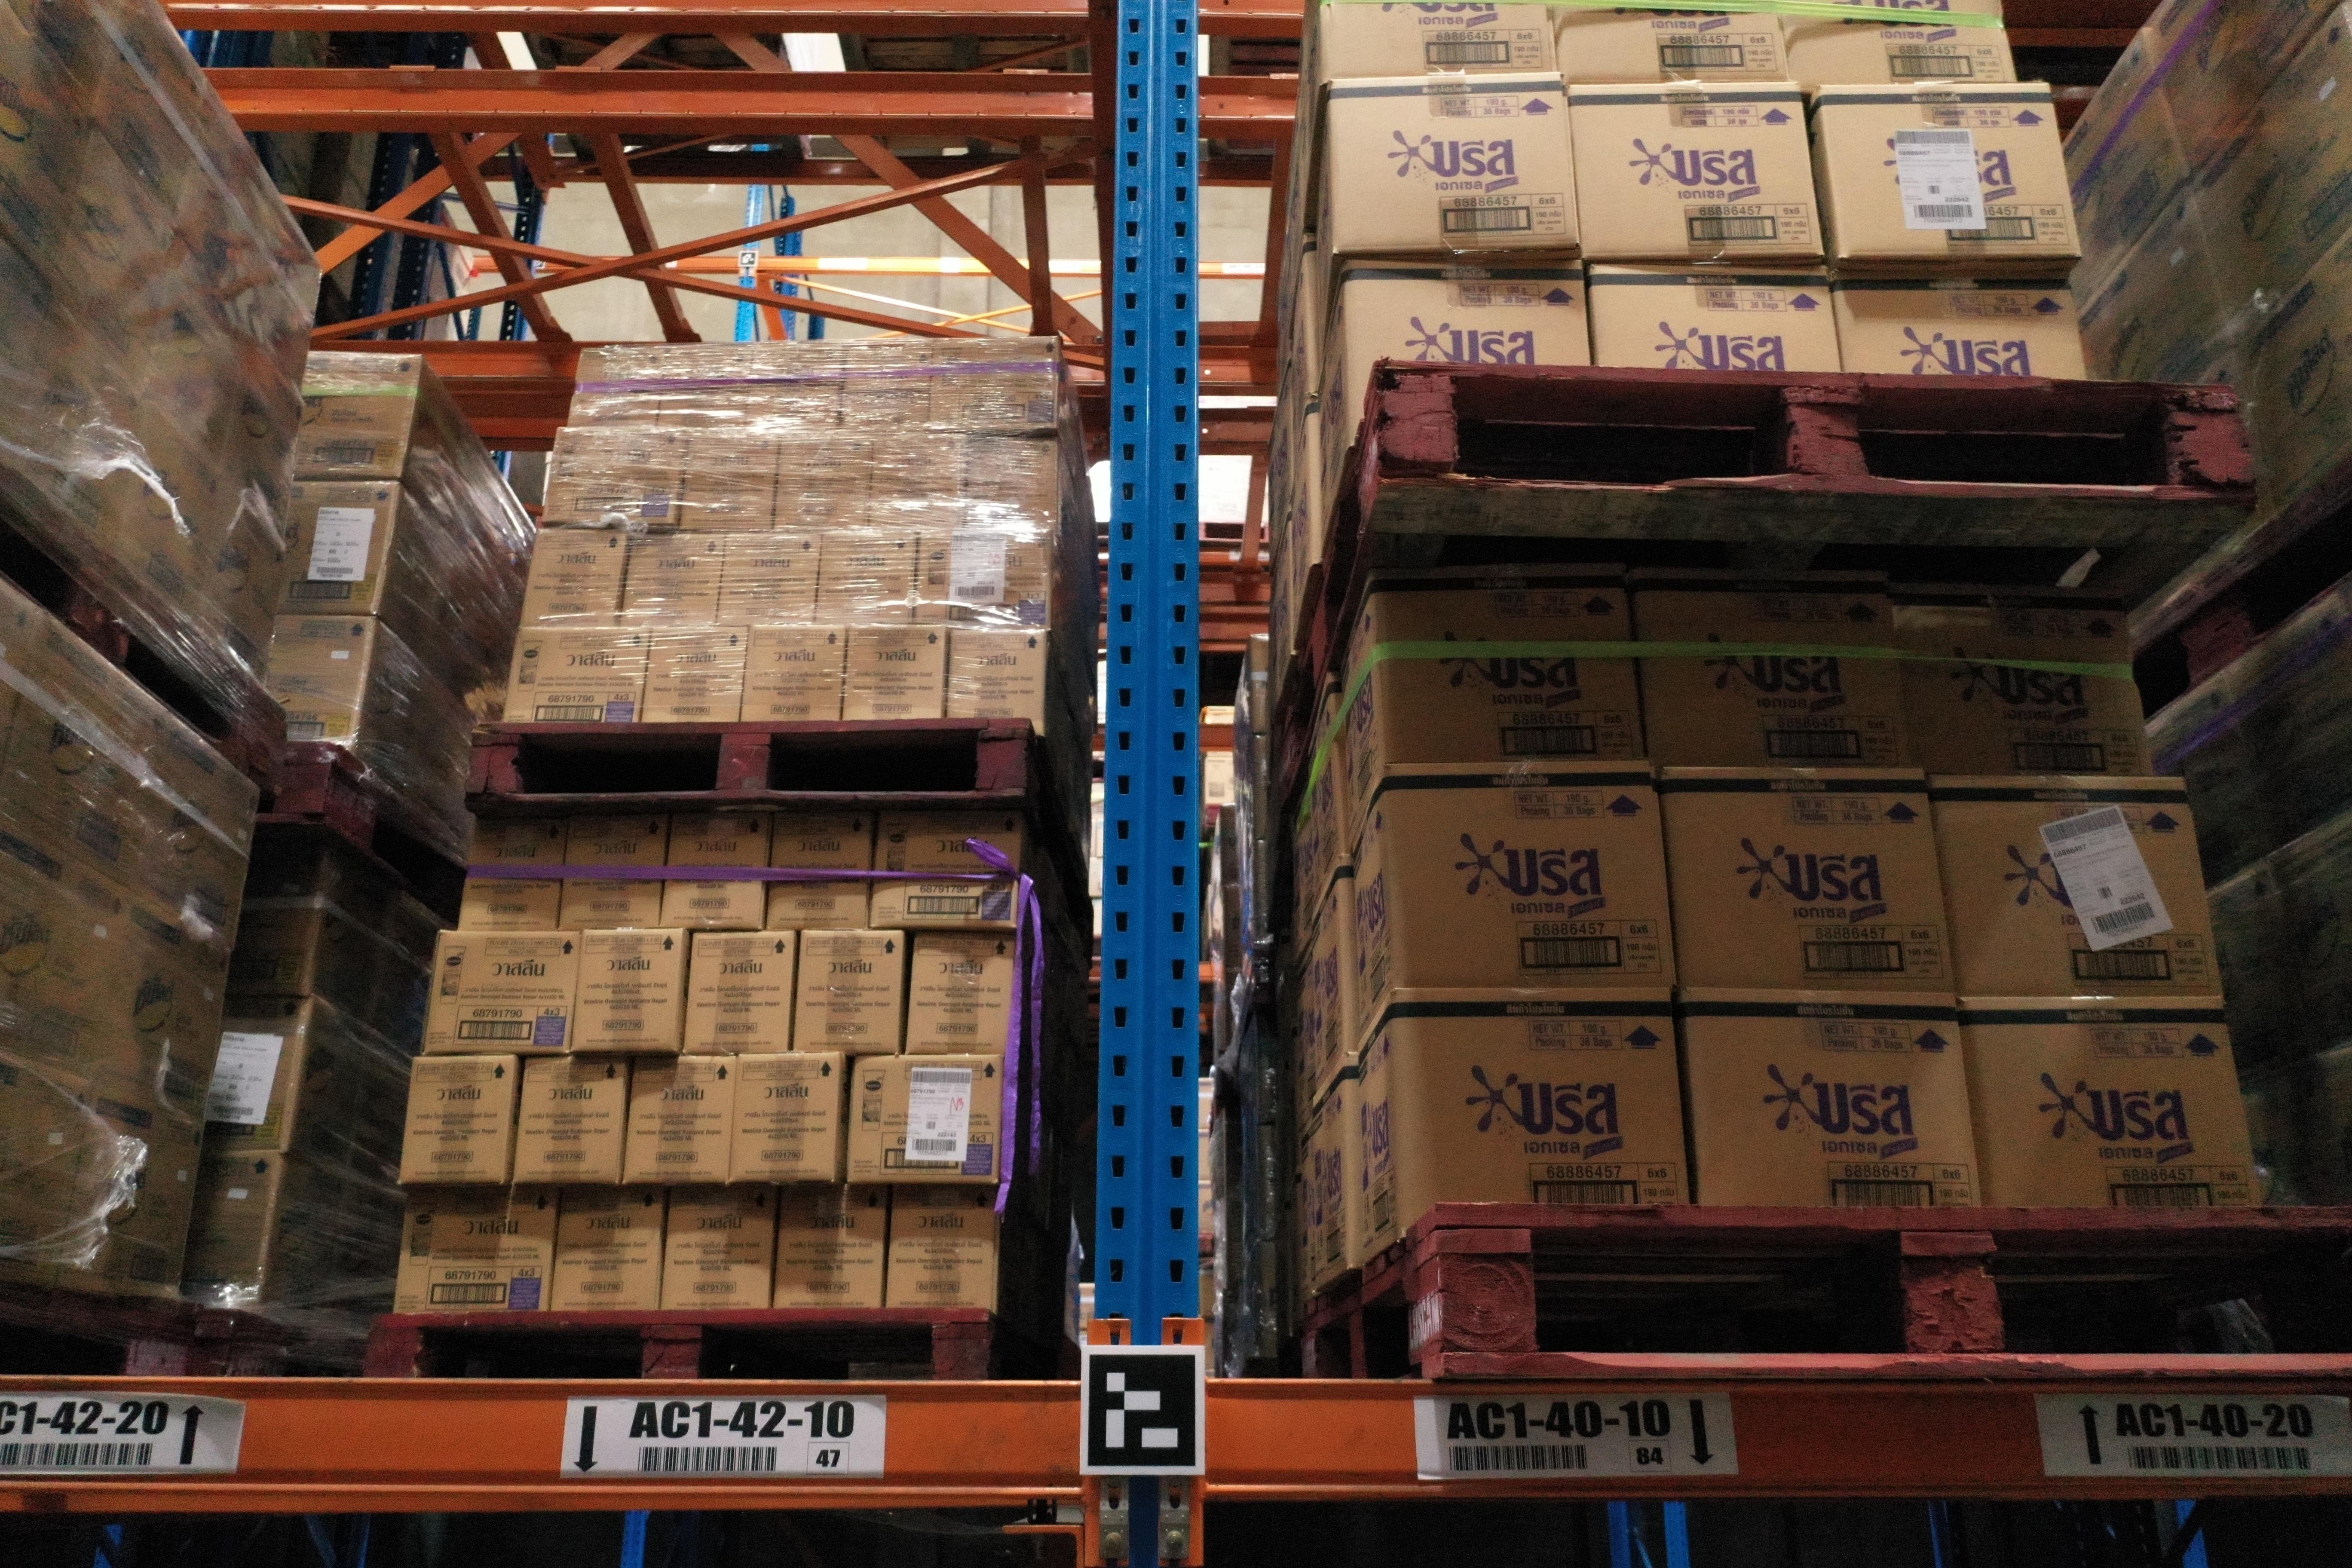-: (1393, 983, 1694, 1227), (1657, 768, 1958, 997), (1676, 989, 1988, 1207), (1381, 761, 1676, 990), (1927, 775, 2224, 999), (1958, 996, 2264, 1211), (1629, 569, 1923, 772), (1374, 569, 1648, 772), (1892, 583, 2156, 780), (1342, 252, 1596, 444), (1818, 80, 2084, 261), (1566, 80, 1825, 261), (1328, 73, 1582, 252), (1584, 261, 1844, 374), (1829, 269, 2093, 381), (1781, 2, 2018, 87)
box: (394, 1190, 562, 1316), (845, 1053, 1003, 1185), (422, 929, 583, 1055), (868, 810, 1024, 931), (621, 1053, 740, 1183), (511, 1052, 625, 1186), (397, 1053, 514, 1183), (541, 425, 686, 528), (660, 1188, 777, 1312), (885, 1190, 1003, 1314), (567, 926, 682, 1052), (793, 927, 905, 1057), (730, 1053, 842, 1183), (551, 1188, 665, 1314), (502, 626, 651, 723), (684, 927, 794, 1055), (906, 929, 1017, 1057), (555, 814, 672, 931), (775, 1192, 887, 1312), (660, 812, 772, 931), (915, 532, 1048, 632), (766, 812, 875, 933), (458, 815, 569, 933), (927, 336, 1059, 430), (945, 623, 1046, 735), (521, 527, 628, 628), (642, 626, 749, 726), (740, 623, 847, 723), (679, 429, 780, 532), (619, 530, 724, 630), (840, 625, 948, 721), (868, 430, 968, 534), (717, 530, 822, 628), (773, 430, 873, 532), (815, 532, 917, 630), (964, 434, 1057, 534), (744, 341, 845, 432), (567, 345, 668, 430), (840, 341, 933, 430), (656, 346, 754, 430)
